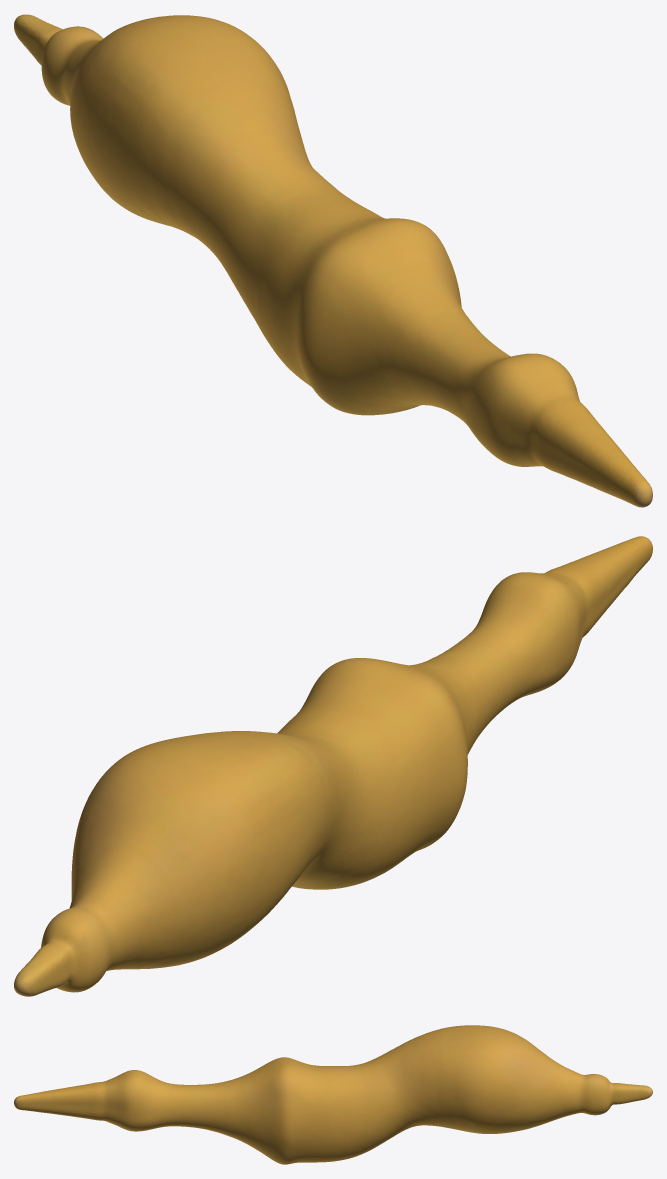
File: detailed_realistic_model_goldensnitch_01.glb
The picture shows the model from 3 angles, top to bottom: view 1: azimuth 30°, elevation 25°; view 2: azimuth 150°, elevation 25°; view 3: azimuth 270°, elevation 25°; orthographic projection. The views are drawn at different scales.
Parts seen in each view (by area): view 1: tripo_node_bb5ffe9b-13a4-494c-8463-7418be9e1894; view 2: tripo_node_bb5ffe9b-13a4-494c-8463-7418be9e1894; view 3: tripo_node_bb5ffe9b-13a4-494c-8463-7418be9e1894.
Part boxes in pixels (x1,y1,x2,y2): tripo_node_bb5ffe9b-13a4-494c-8463-7418be9e1894: (14, 14, 652, 507); tripo_node_bb5ffe9b-13a4-494c-8463-7418be9e1894: (14, 536, 652, 996); tripo_node_bb5ffe9b-13a4-494c-8463-7418be9e1894: (14, 1025, 652, 1164).
Size of the model in its own units: 0.1661 by 0.2112 by 1.
1 material, 1 textured.
